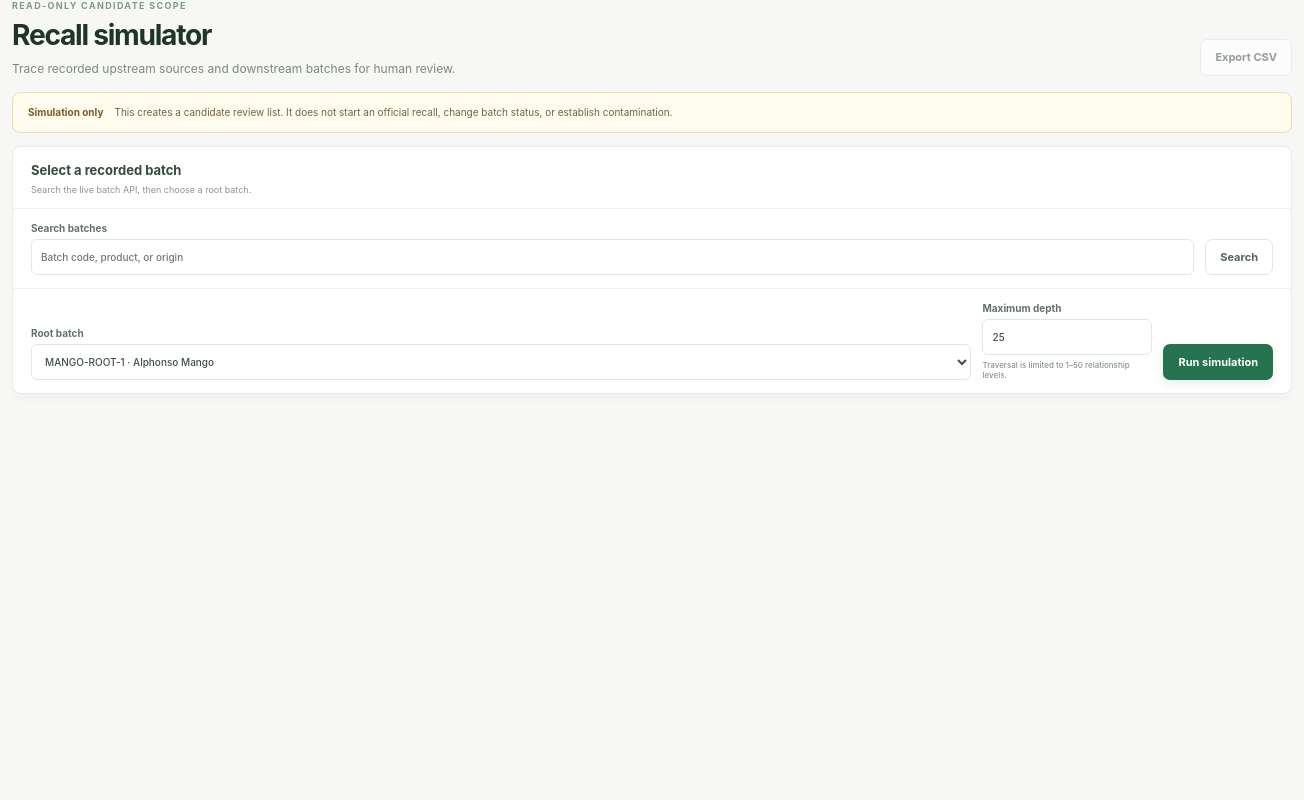
Test: RecallSimulatorDashboard › selects a real batch, runs the API simulation, and renders both directions and evidence
The image size is (1304, 800).
Click the button "Run simulation": [1218, 362] box top-left (1164, 344), bottom-right (1273, 380)
(page scrolled)
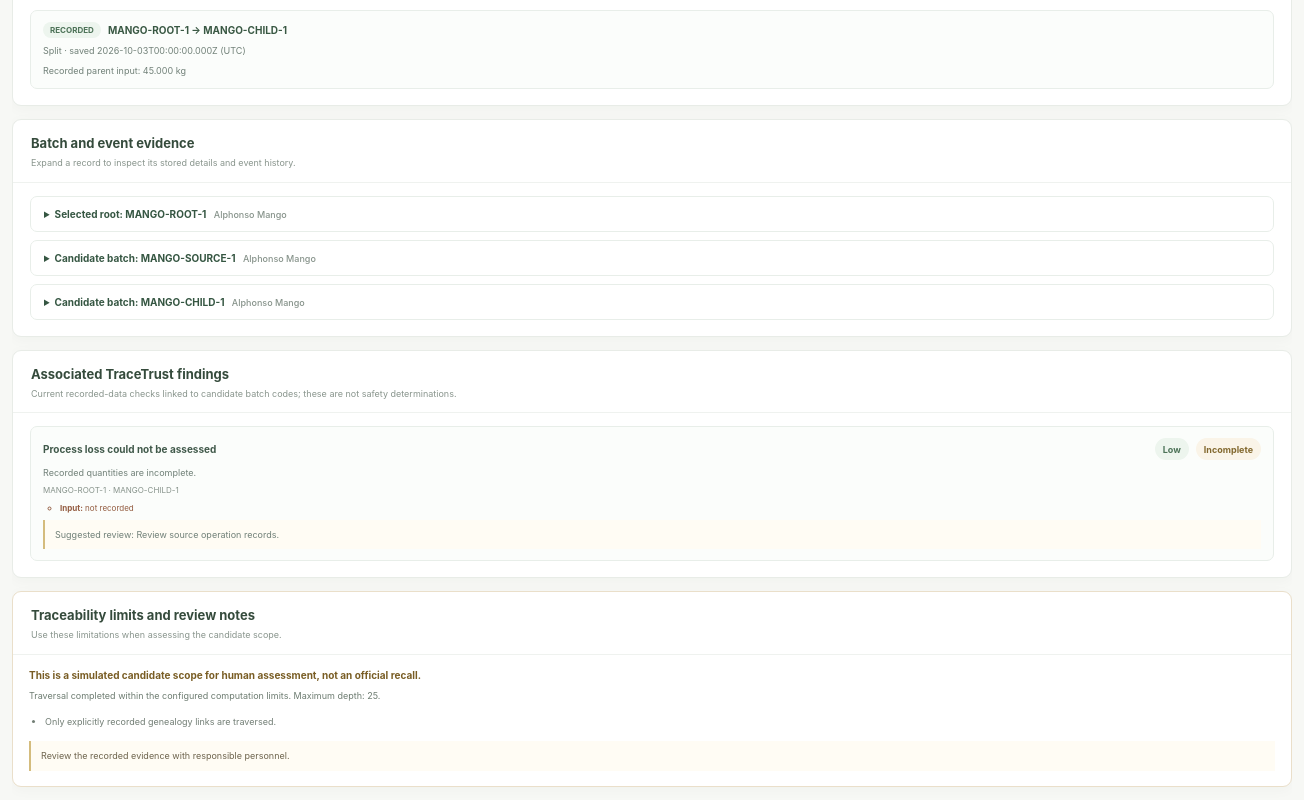
Result: the text "Recorded parent input: 45.000 kg" is shown at top-left (43, 65), bottom-right (186, 76)
Result: the text "Process loss could not be assessed" is shown at top-left (43, 443), bottom-right (216, 455)
Result: the text "not an official recall" is shown at top-left (29, 669), bottom-right (421, 681)
